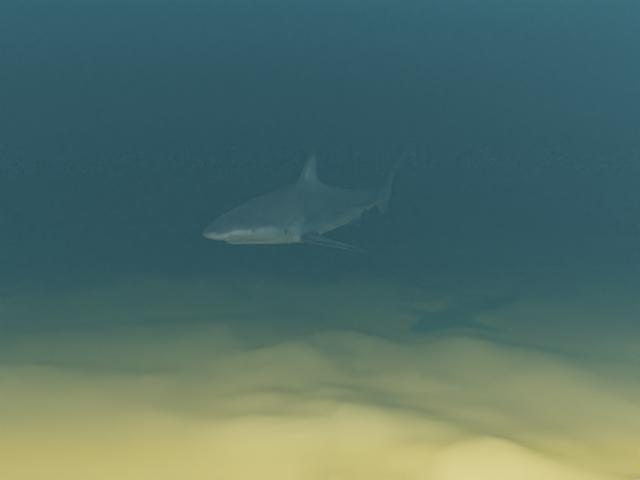Carribean Shark.001: (202, 144, 413, 252)
